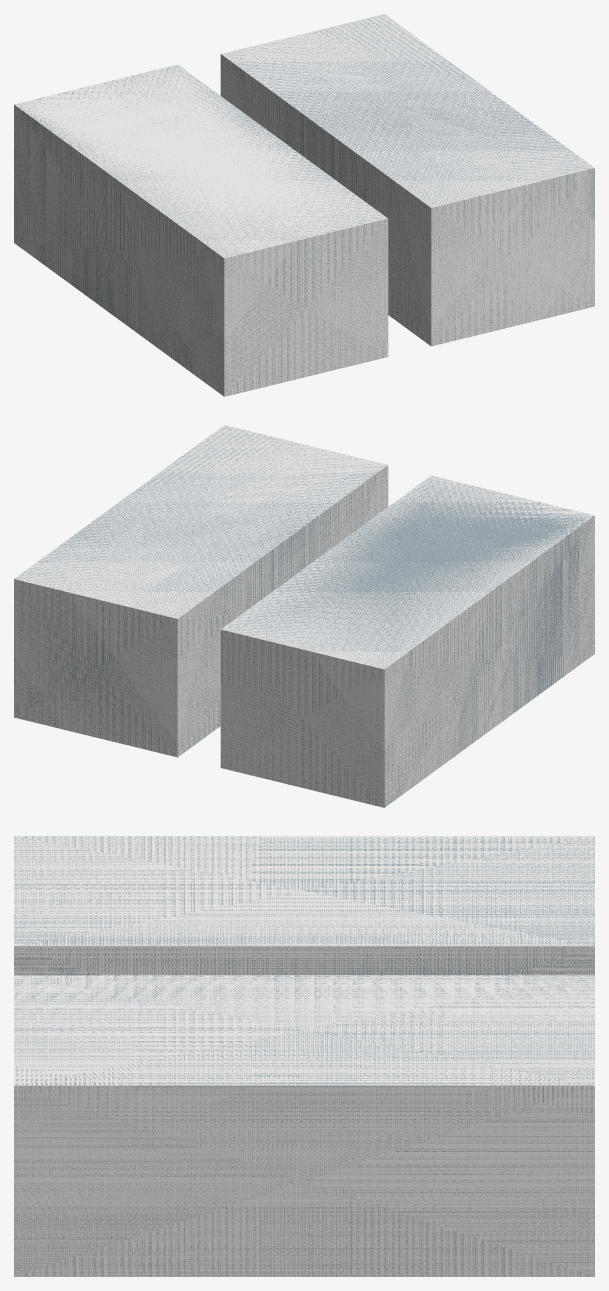
File: box-component-two-instances.dae
3 views of the same model, one above another, from view 1: azimuth 30°, elevation 25°; view 2: azimuth 150°, elevation 25°; view 3: azimuth 270°, elevation 25° (orthographic). The views are drawn at different scales.
Parts seen in each view (by area): view 1: Box_Component (×2); view 2: Box_Component (×2); view 3: Box_Component (×2).
Part boxes in pixels (x1,y1,x2,y2): Box_Component (×2): [14, 14, 594, 396]; Box_Component (×2): [14, 425, 594, 807]; Box_Component (×2): [14, 836, 594, 1276].
Bounding box in the file's own units: 87.69 × 86.25 × 31.31.
